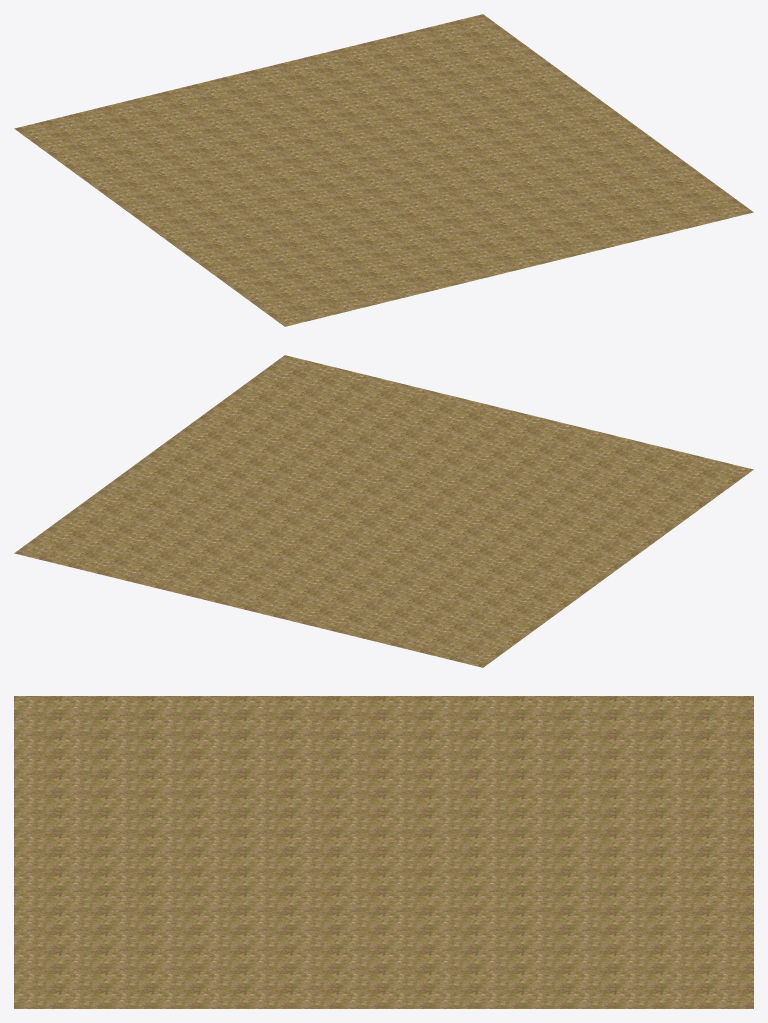
The model's file is ground.glb.
3 renders of one model, top to bottom at view 1: azimuth 30°, elevation 25°; view 2: azimuth 150°, elevation 25°; view 3: azimuth 270°, elevation 25°, orthographic. The views are drawn at different scales.
Visible parts, largest first — view 1: Plane; view 2: Plane; view 3: Plane.
Boxes of the visible parts, box(x1,y1,x2,y2) form: Plane: box(14, 14, 753, 326); Plane: box(14, 355, 753, 667); Plane: box(14, 696, 753, 1008).
Bounding box in the file's own units: 512 × 0 × 512.
Materials: 1 (1 with a texture image).
